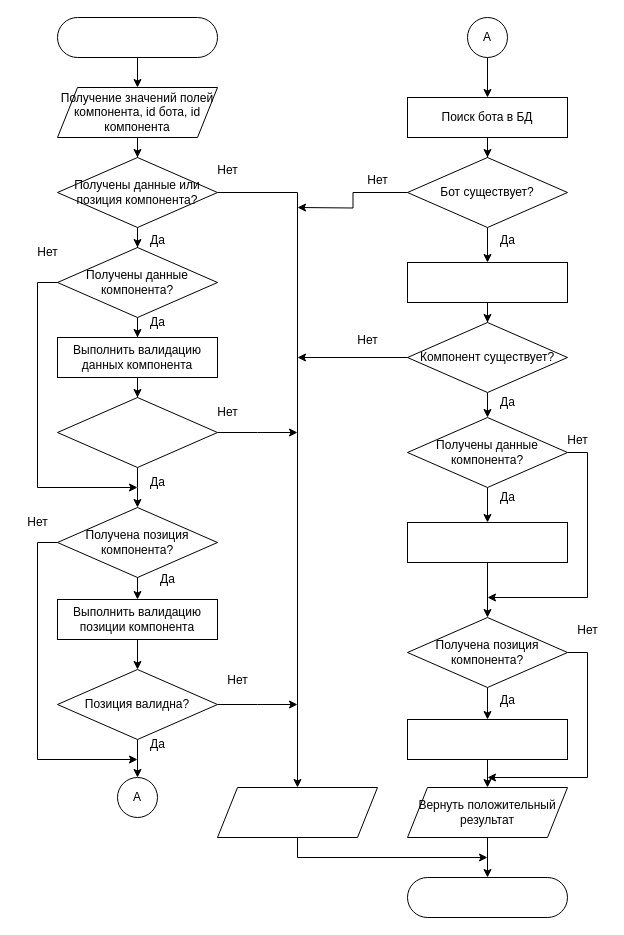
This 624x935 diagram has some shape labels left out. Each missing label, with the centre of its shape:
Вернуть ошибку: point (297, 812)
Данные валидны?: point (137, 432)
Обновить данные компонента в БД: point (487, 542)
Обновить позицию компонента в БД: point (487, 739)
Обновление компонента КОНЕЦ: point (487, 897)
Обновление компонента НАЧАЛО: point (137, 37)
Поиск компонента в БД: point (487, 282)
